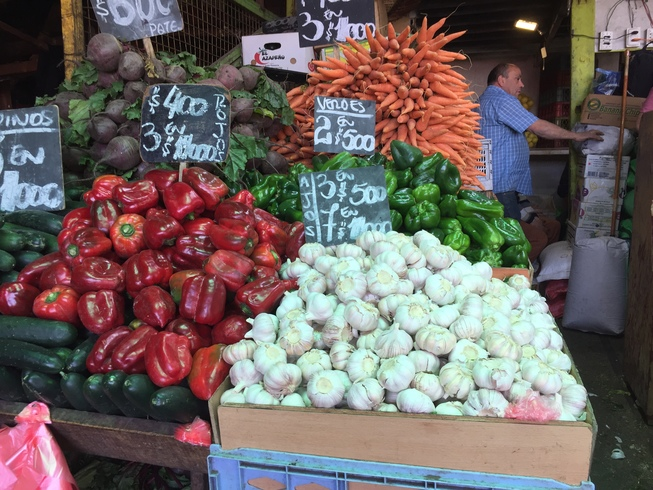precio: (142, 83, 236, 164), (295, 168, 389, 246), (1, 105, 63, 208), (313, 95, 382, 155), (101, 1, 177, 47), (299, 1, 372, 48)
